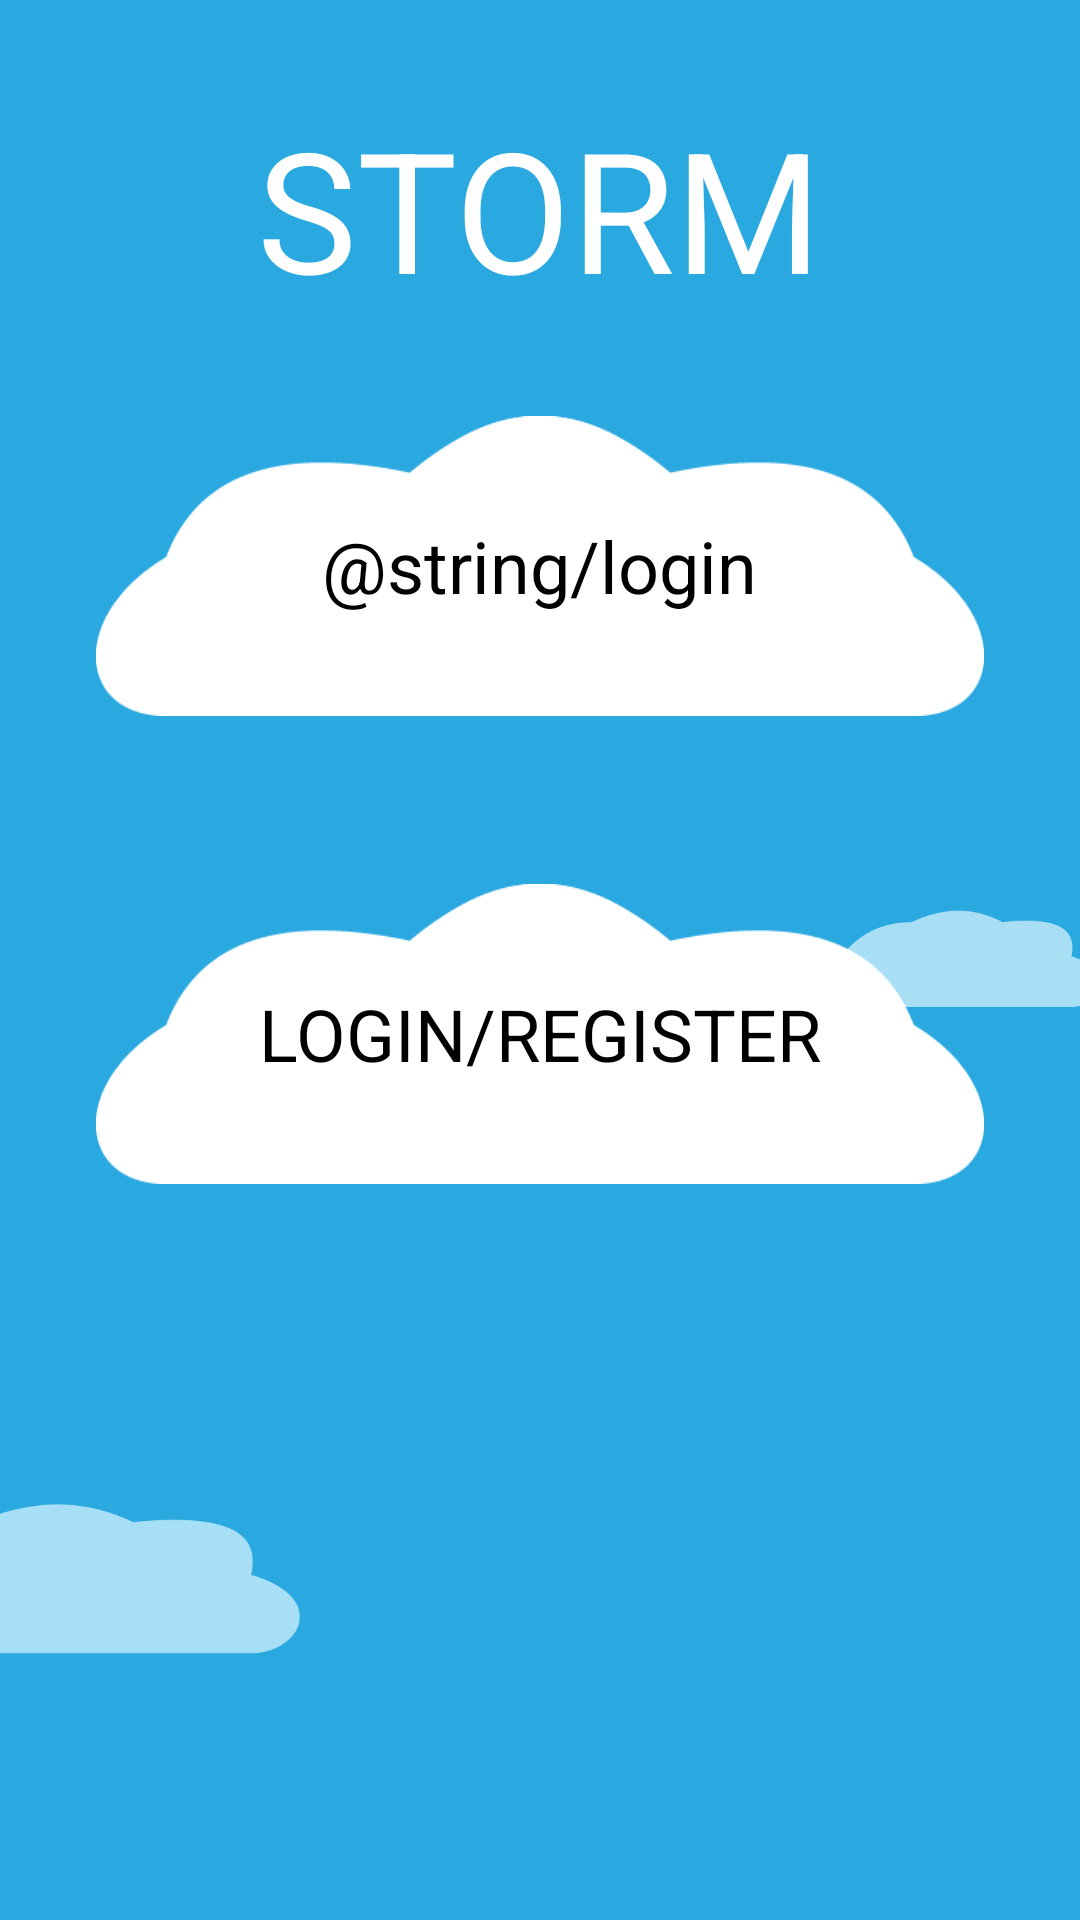

Icons on this 1080px×1920px Android screen, each with its box as region(x1, y1, x2, y2):
left cloud: region(0, 1504, 300, 1654)
